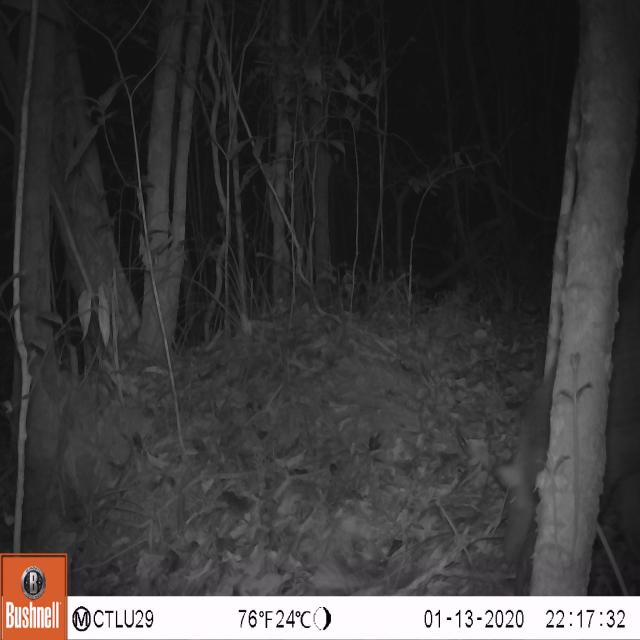Armadillo: (485, 288, 640, 577)
